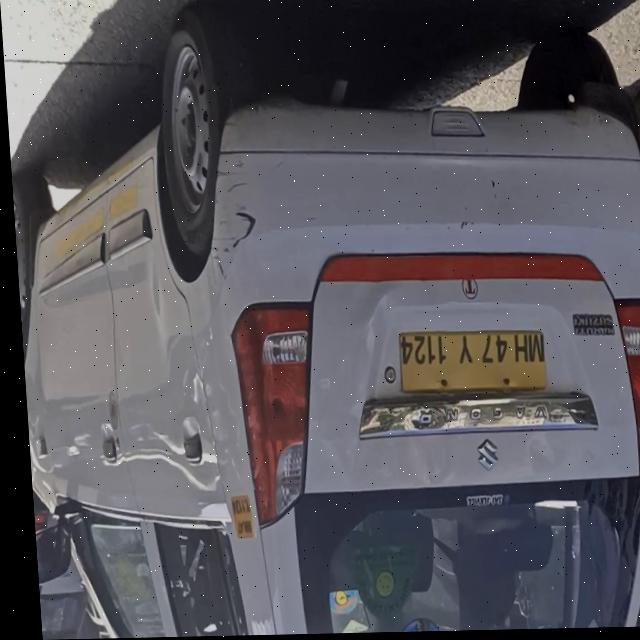plate: (391, 329, 543, 396)
